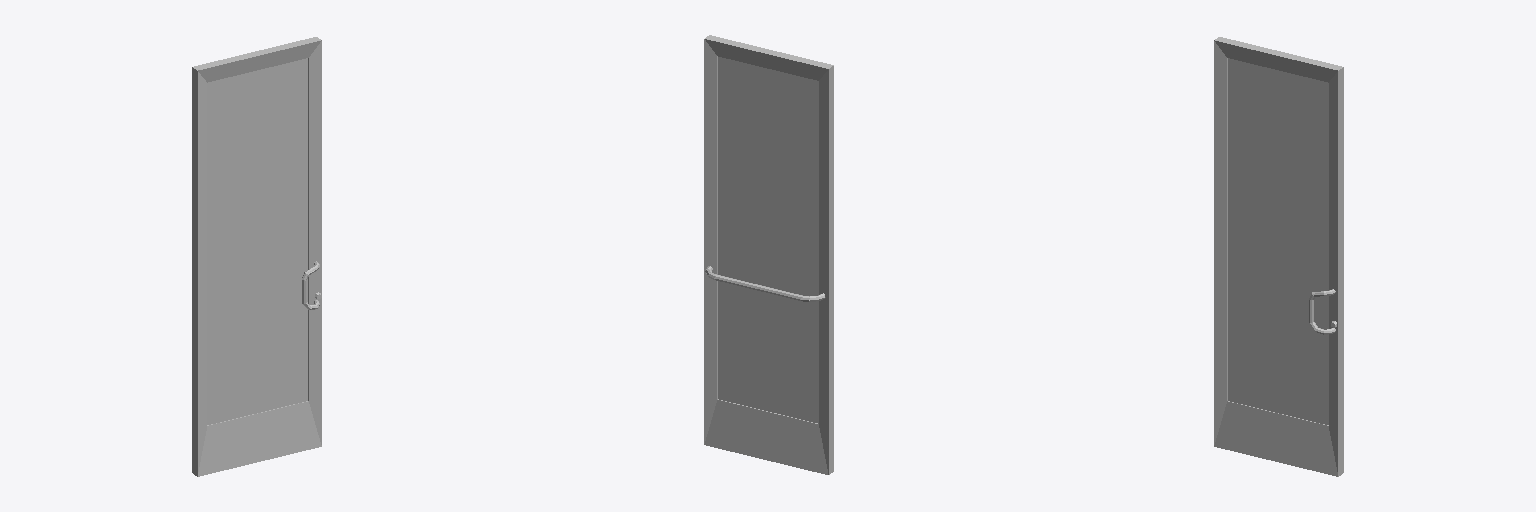
Rendered from Building_Door_Left_LOD1.obj.
3 renders of one model, left to right at view 1: azimuth 30°, elevation 25°; view 2: azimuth 150°, elevation 25°; view 3: azimuth 330°, elevation 25°, orthographic.
Visible parts, largest first — view 1: Building_Door_Left_LOD1 Building_Door_Left; view 2: Building_Door_Left_LOD1 Building_Door_Left; view 3: Building_Door_Left_LOD1 Building_Door_Left.
Part boxes in pixels (left/top/right/bottom): Building_Door_Left_LOD1 Building_Door_Left: left=192, top=37, right=321, bottom=476; Building_Door_Left_LOD1 Building_Door_Left: left=704, top=35, right=833, bottom=474; Building_Door_Left_LOD1 Building_Door_Left: left=1214, top=37, right=1343, bottom=476.
Size of the model in its own units: 79.94 by 250 by 21.69.